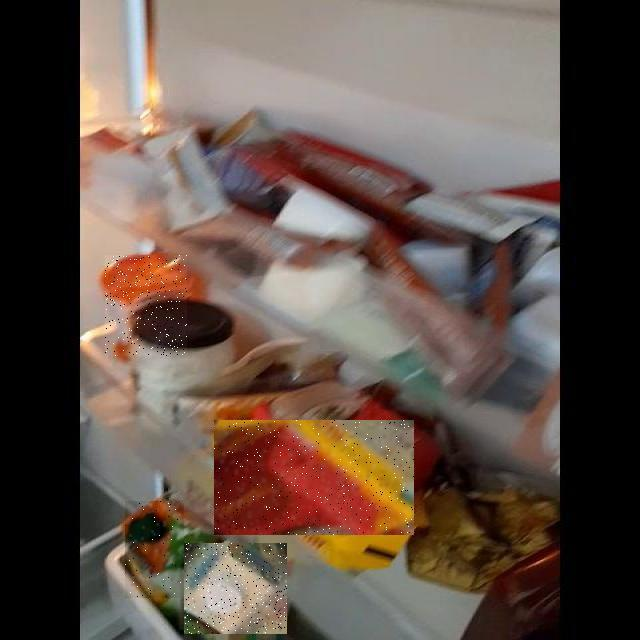Butter: (215, 420, 415, 535)
Juice: (125, 501, 184, 598)
Milk: (184, 543, 287, 634)
Sauce: (105, 255, 187, 356)
